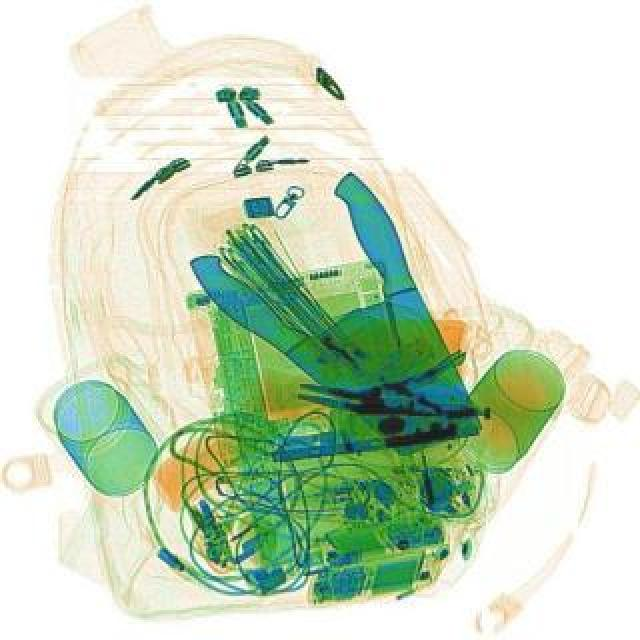knife: (184, 208, 488, 480), (280, 170, 488, 466)
